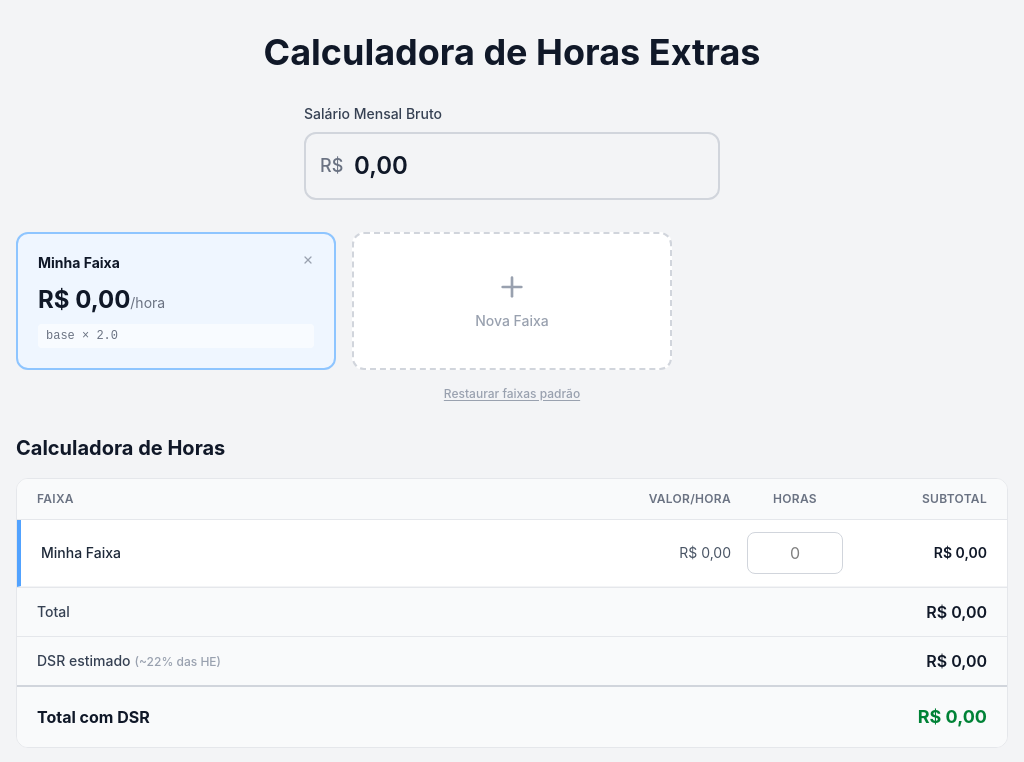
Test: App › restores default bands and drops custom ones when reset is confirmed
Expected: the heading "Minha Faixa" is shown, [38,254,120,272]
Click the button "Restaurar faixas padrão" at [512, 394], box [444,386,580,402]
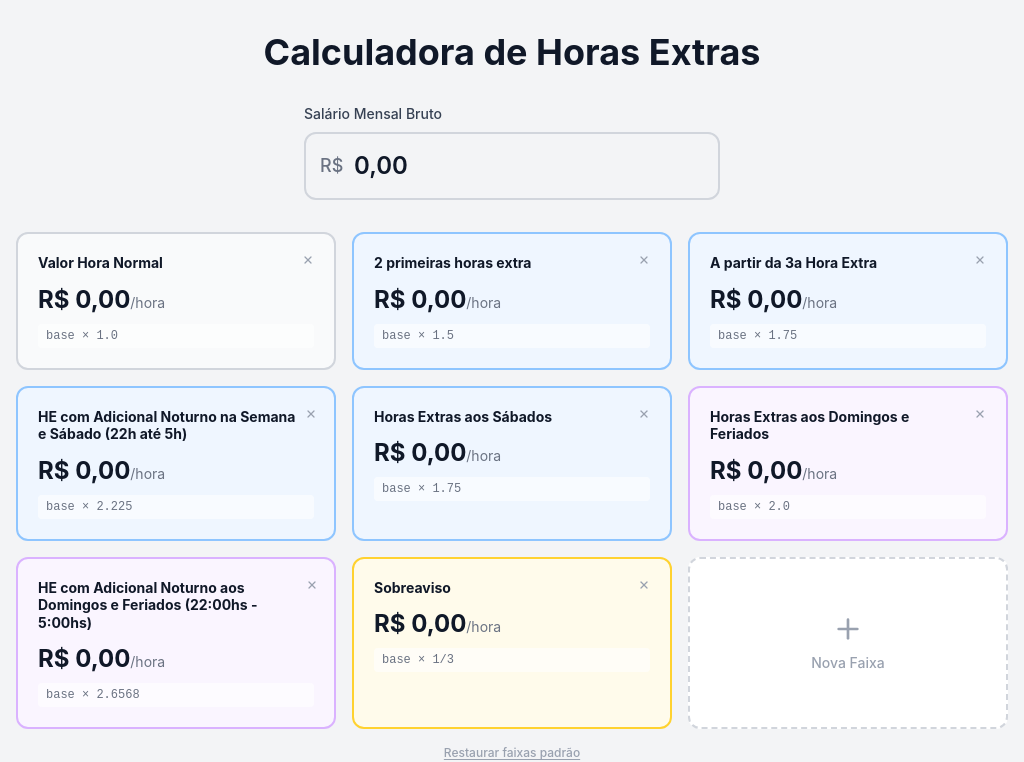
Expected: the heading "Minha Faixa" is gone
Expected: the heading "Valor Hora Normal" is shown, [38,254,163,272]
